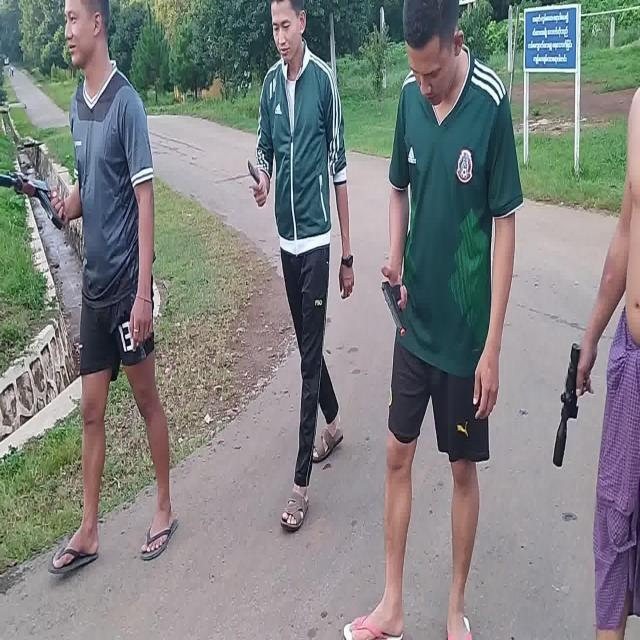gun: (0, 168, 62, 229), (381, 279, 407, 336)
